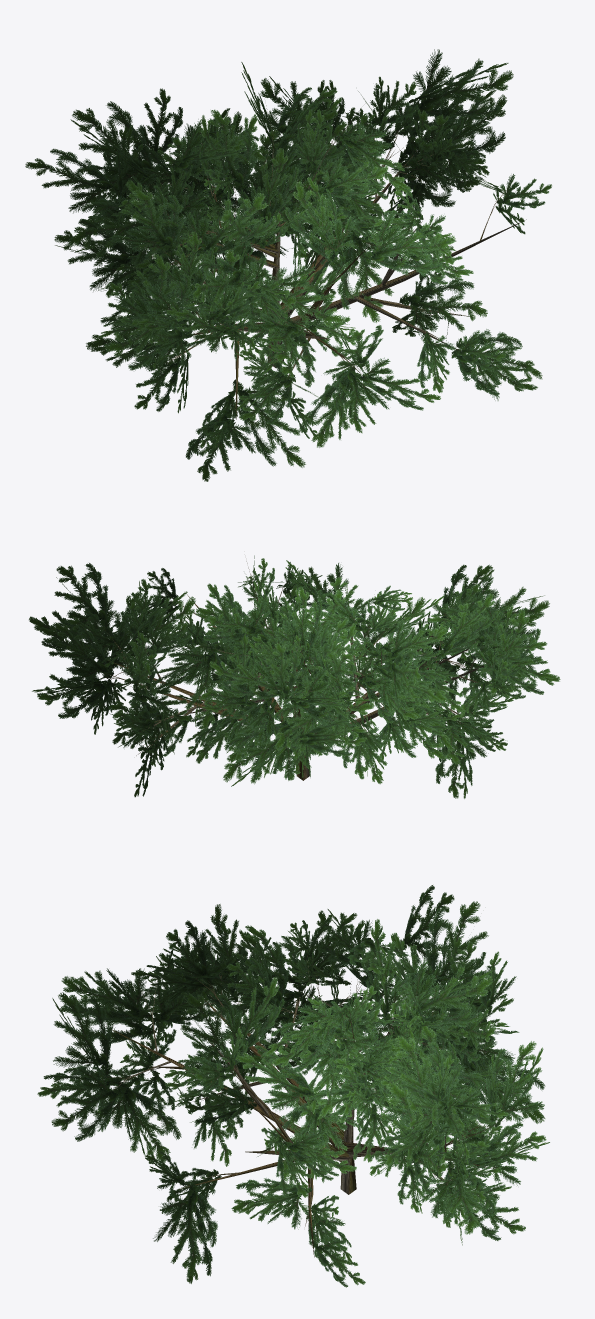
File: bush_c.glb
3 views of the same model, one above another, from view 1: azimuth 30°, elevation 25°; view 2: azimuth 150°, elevation 25°; view 3: azimuth 270°, elevation 25° (orthographic). The views are drawn at different scales.
Visible parts, largest first — view 1: leaves, trunk; view 2: leaves, trunk; view 3: leaves, trunk.
Boxes of the visible parts, x1=… form: leaves: x1=25, y1=49, x2=551, y2=481; trunk: x1=126, y1=105, x2=526, y2=419; leaves: x1=29, y1=555, x2=560, y2=798; trunk: x1=104, y1=561, x2=504, y2=780; leaves: x1=37, y1=885, x2=549, y2=1287; trunk: x1=105, y1=940, x2=504, y2=1257.
Size of the model in its own units: 2.21 by 1.3 by 2.06.
2 materials, 2 textured.
